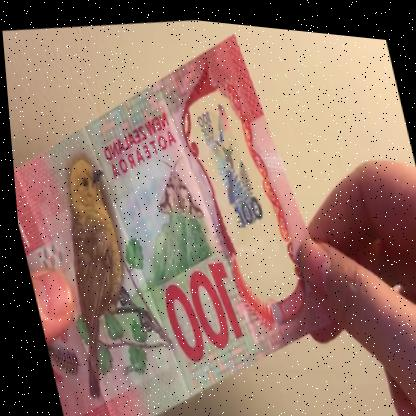100B: (189, 91, 278, 275)
